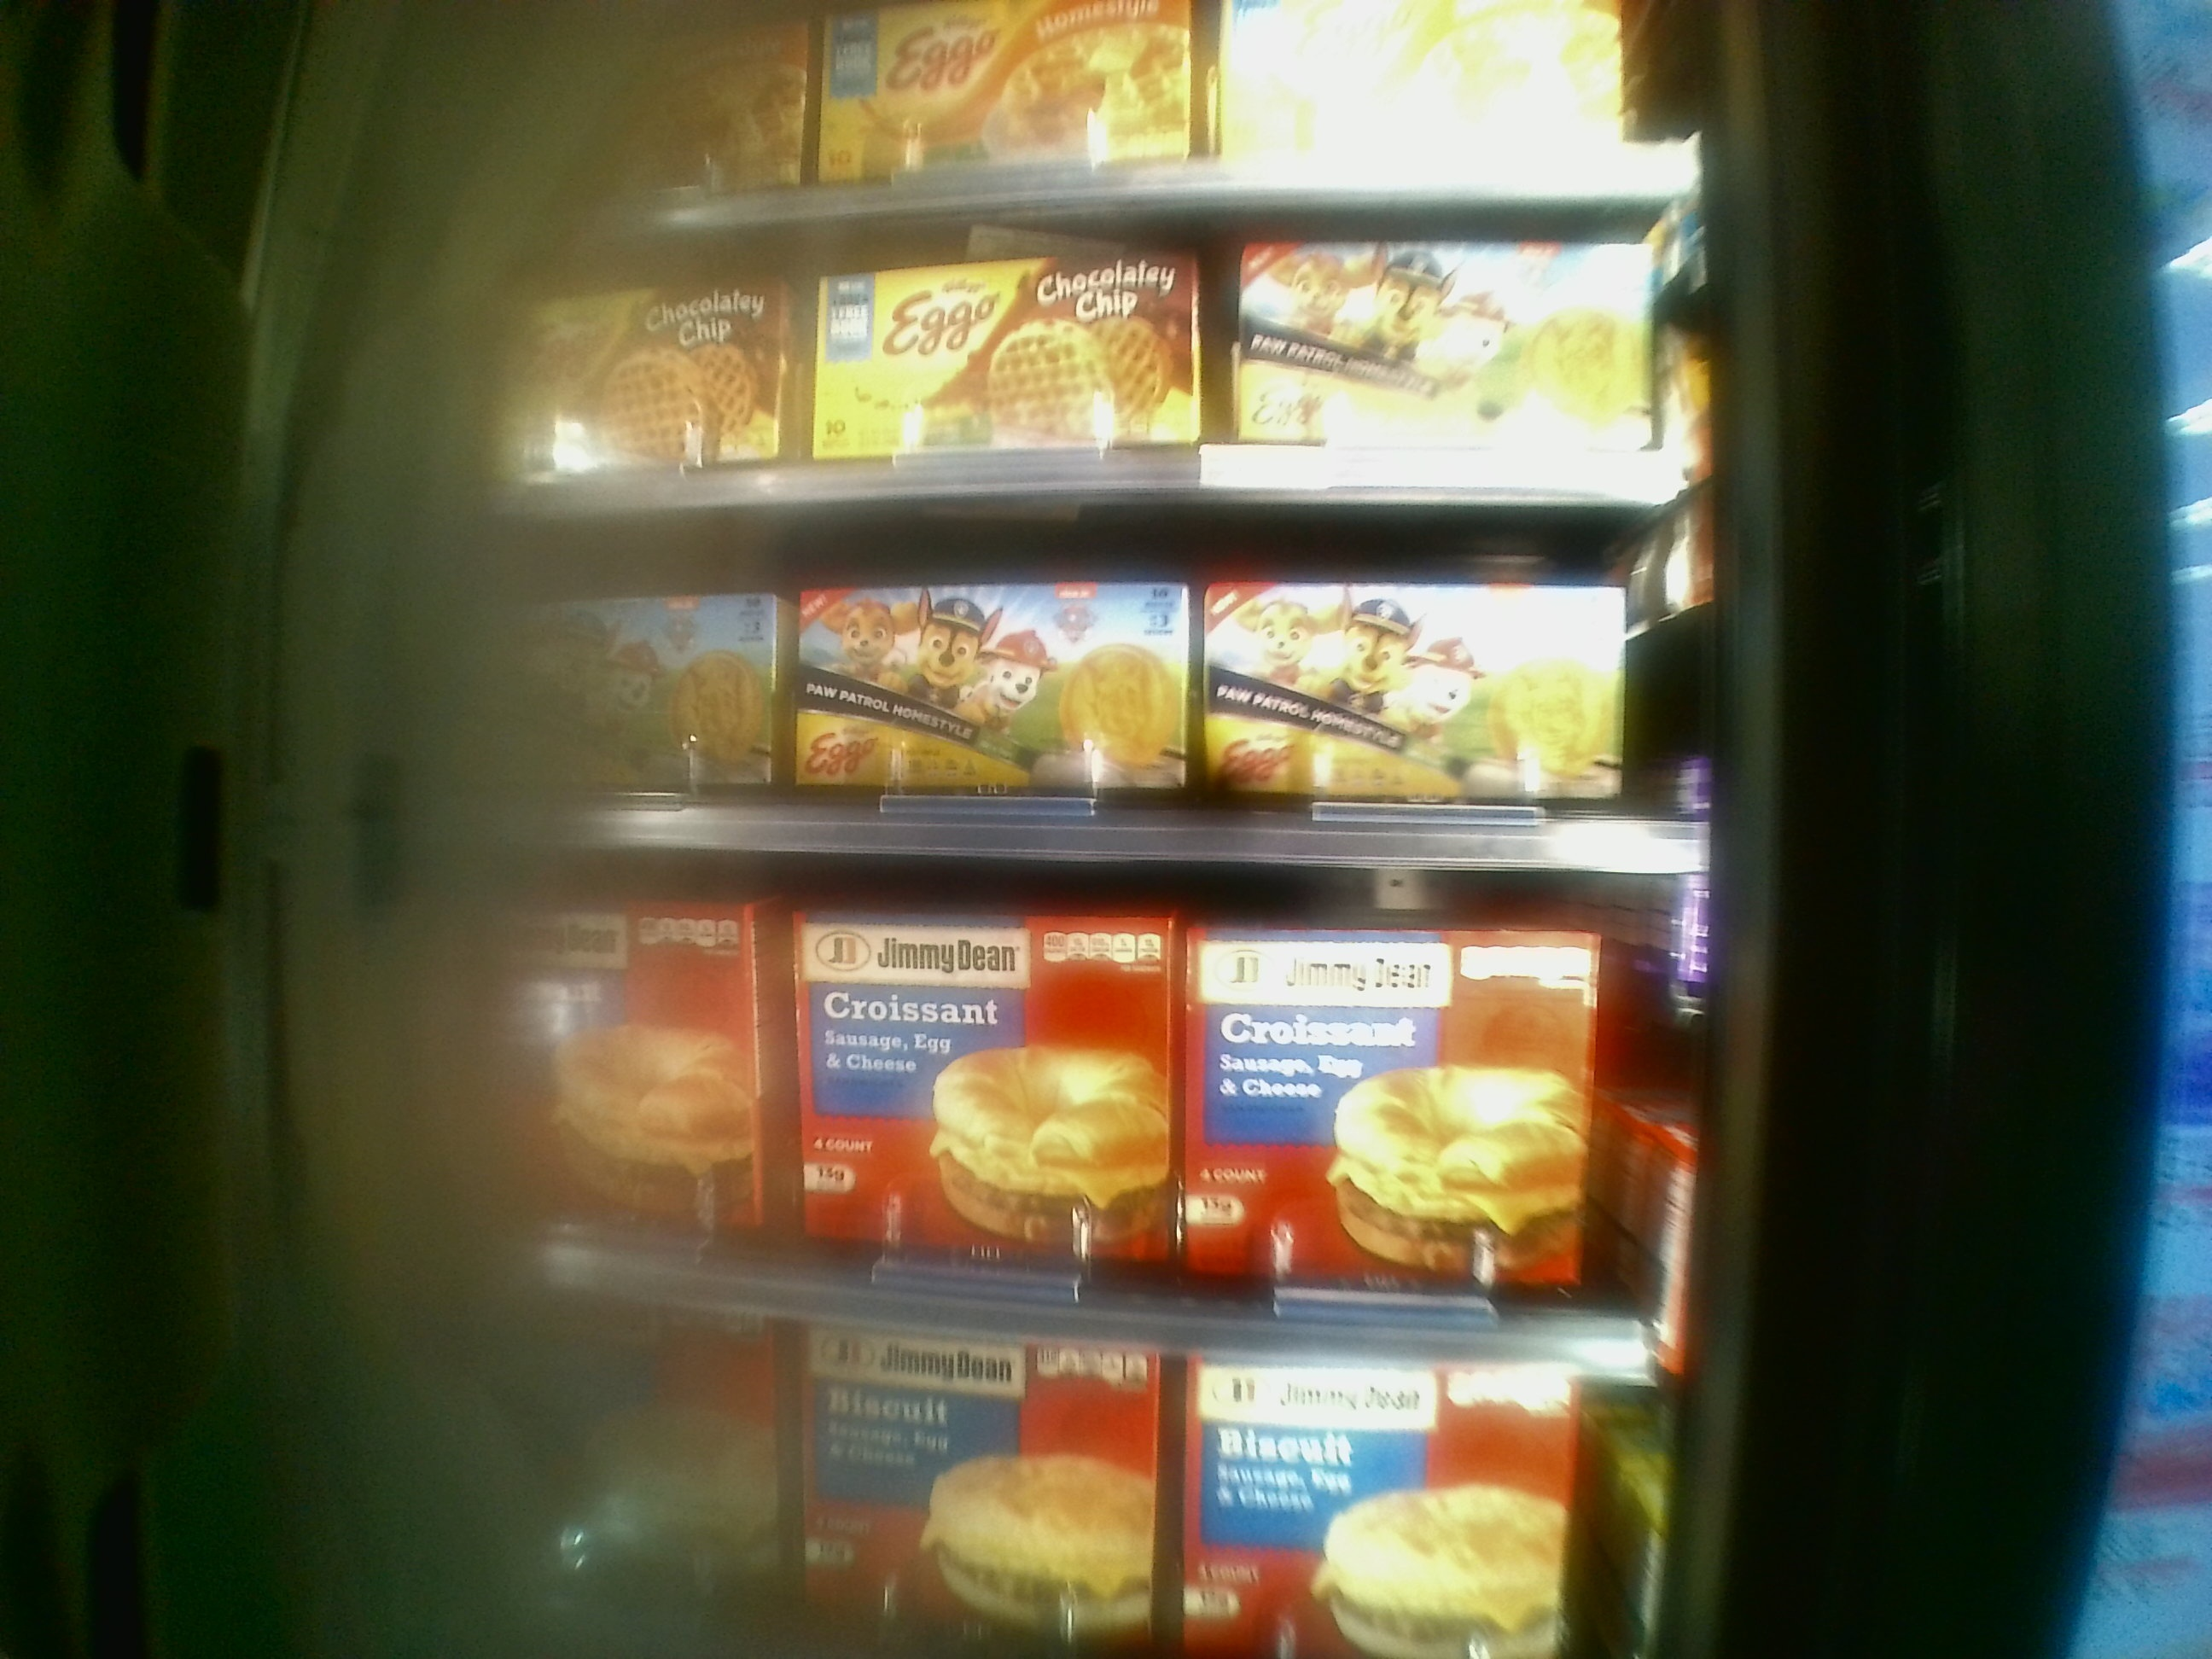shelf: (439, 868, 1681, 1366), (444, 502, 1707, 863), (449, 197, 1709, 507)
